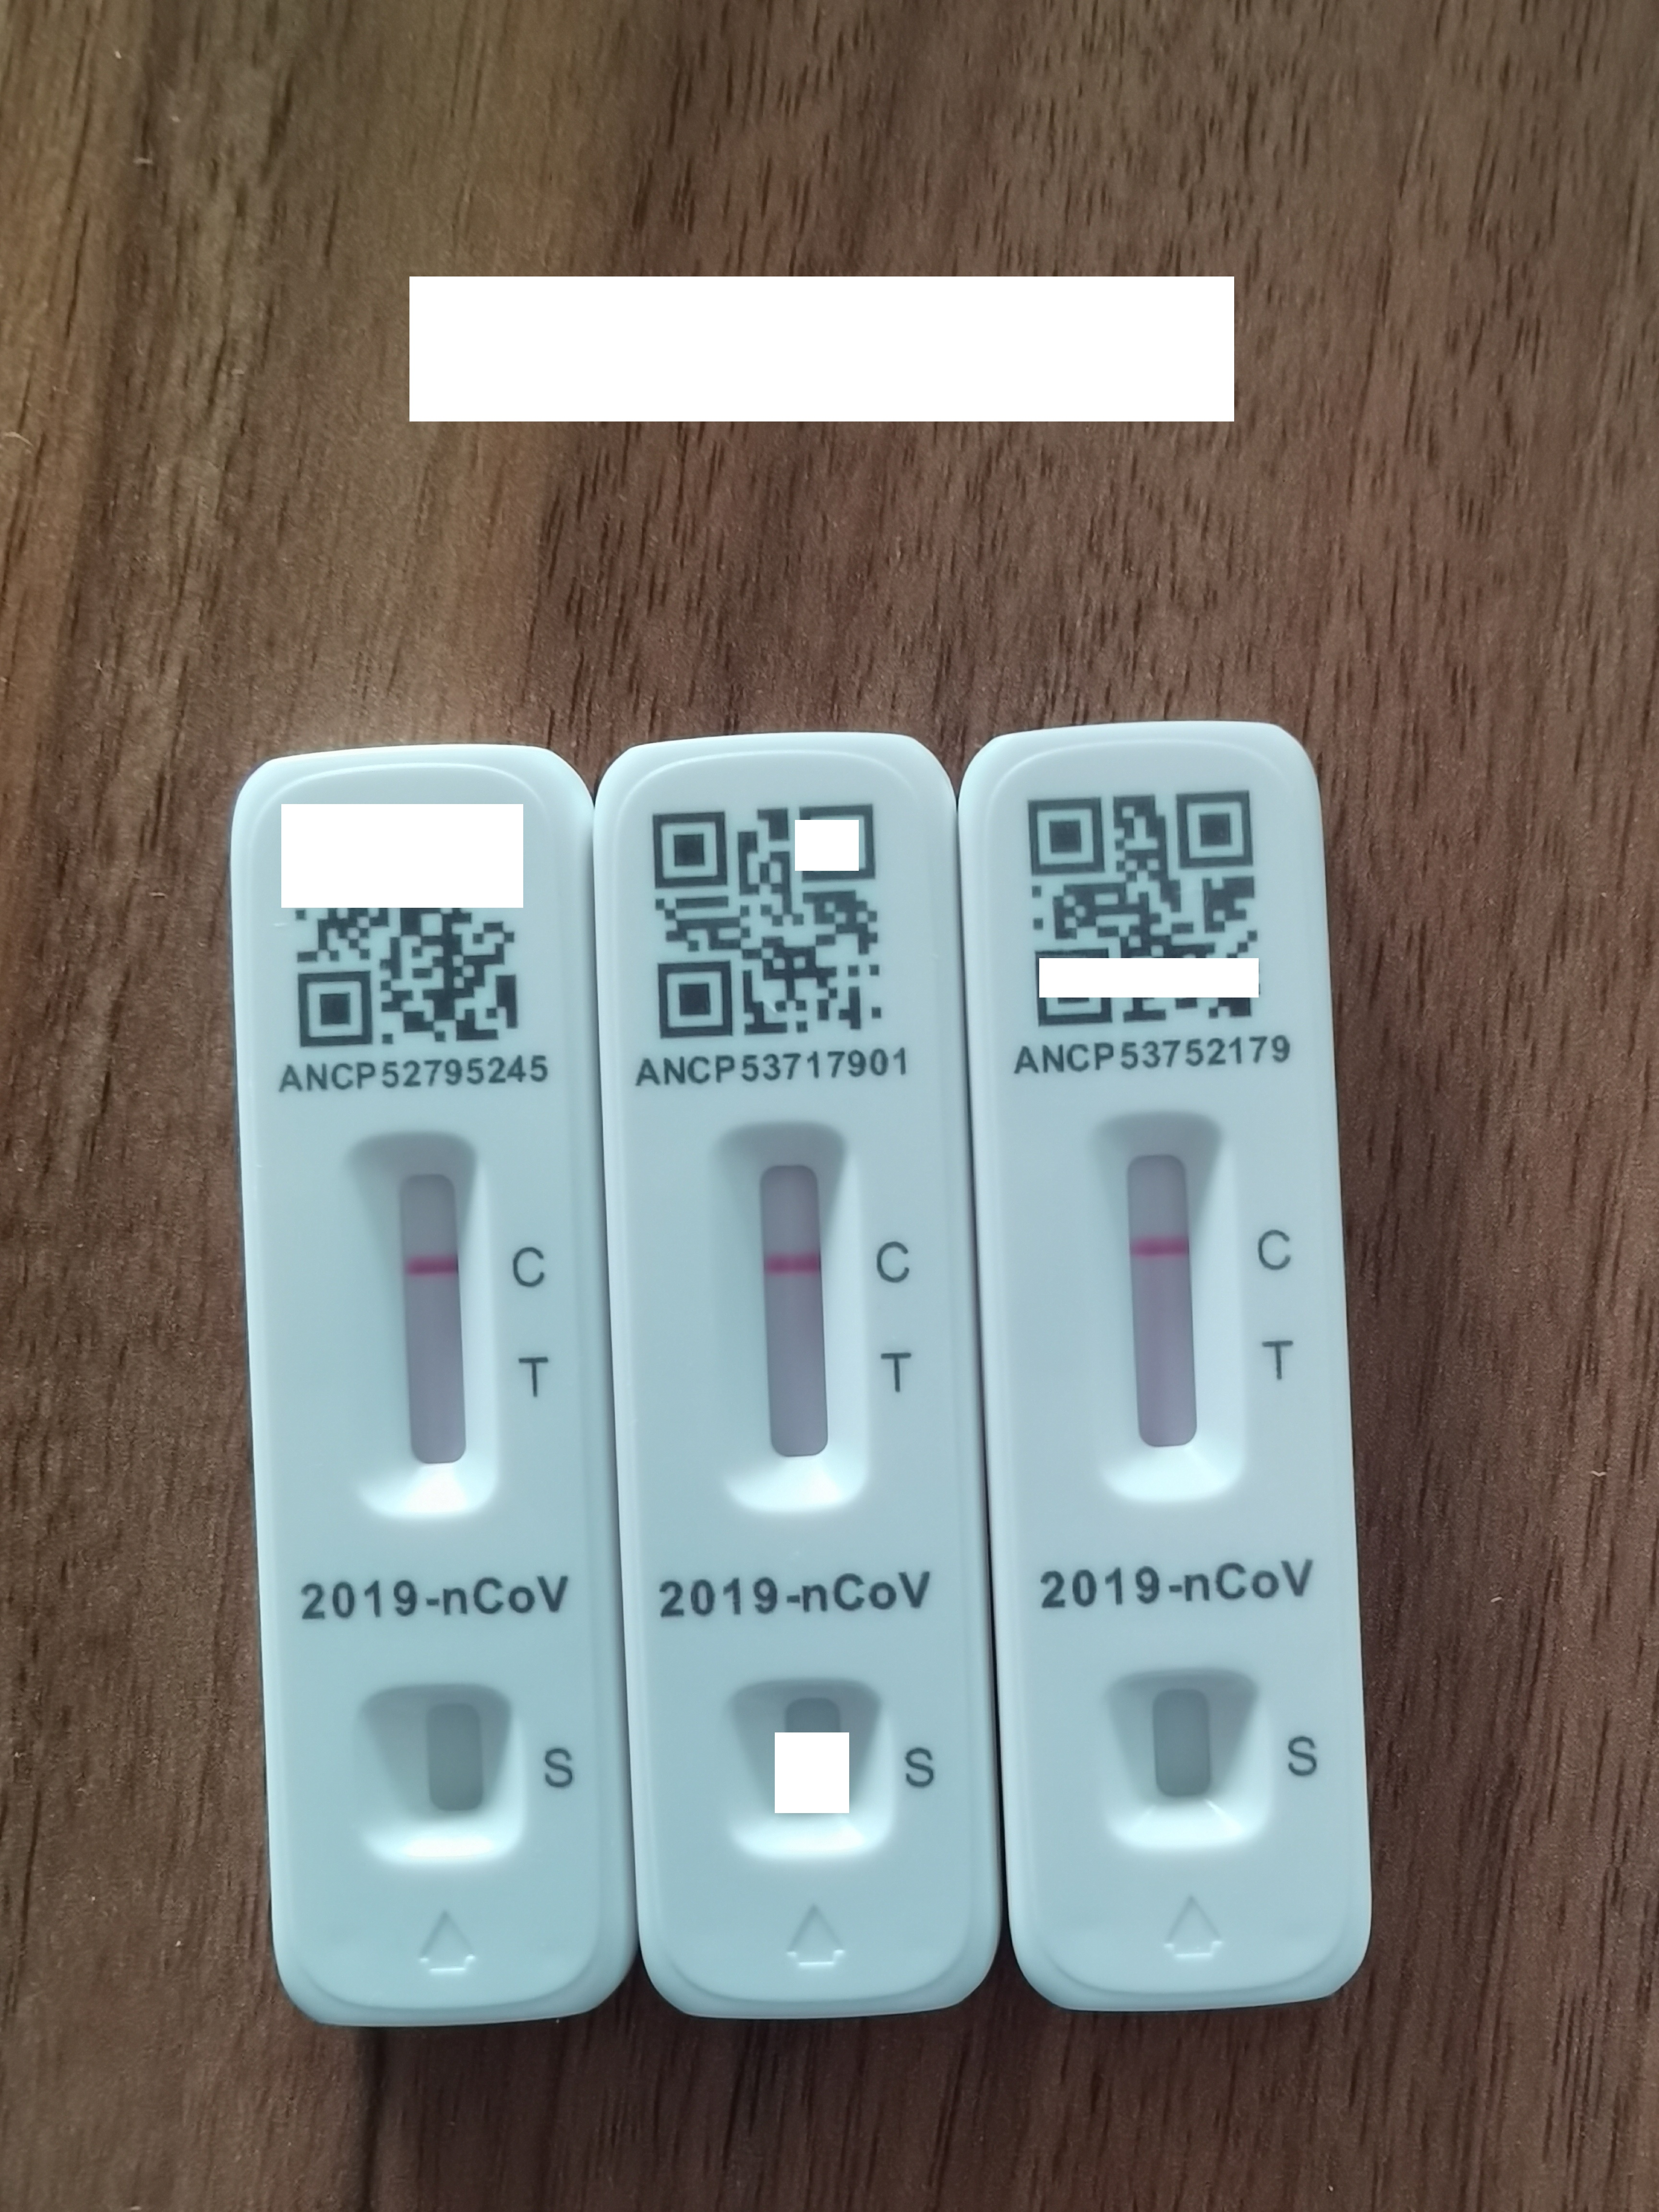negative: (720, 1108, 856, 1500), (355, 1123, 488, 1510), (1094, 1113, 1225, 1498)
